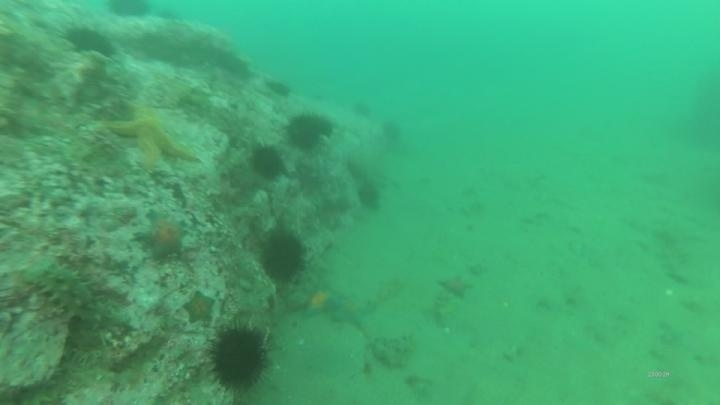echinus: (205, 321, 275, 395), (258, 228, 309, 285), (283, 110, 335, 153), (62, 24, 116, 61), (247, 143, 287, 182), (105, 0, 153, 22), (354, 180, 384, 214), (263, 76, 294, 101), (379, 118, 405, 146), (350, 99, 374, 121)
holothurian: (22, 259, 130, 334)
starfish: (107, 100, 202, 176), (133, 209, 189, 262), (328, 290, 376, 332), (298, 283, 344, 321), (180, 289, 219, 326), (436, 272, 476, 302)
